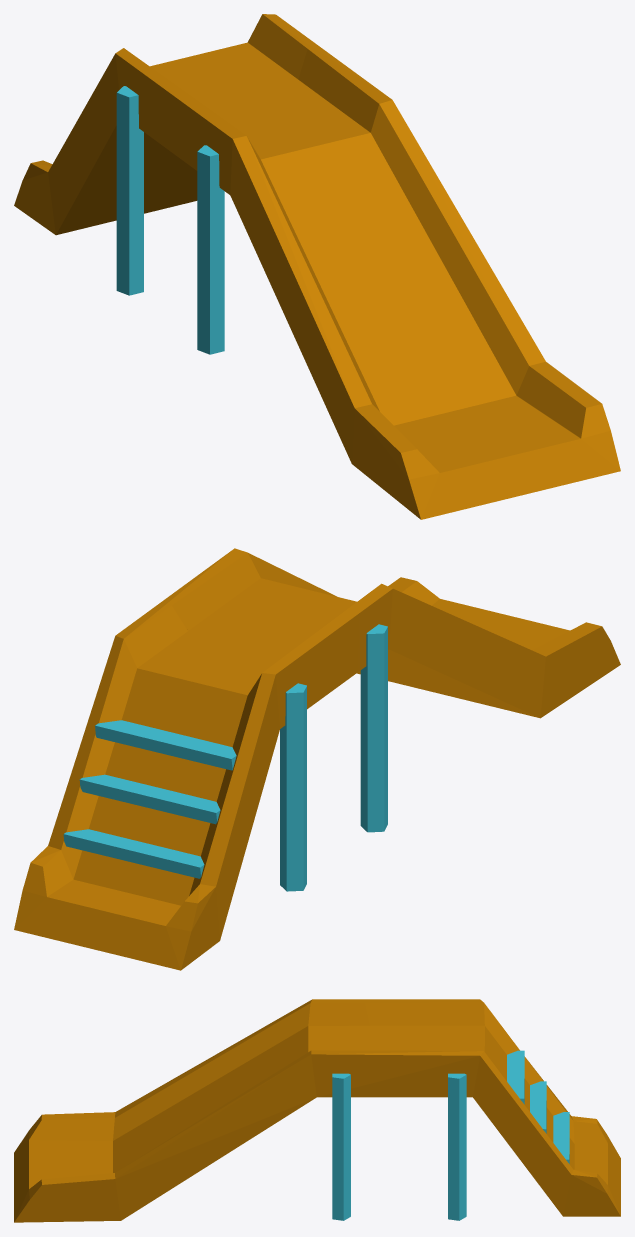
File: Child Slide 1 Fractured.fbx
3 renders of one model, top to bottom at view 1: azimuth 30°, elevation 25°; view 2: azimuth 150°, elevation 25°; view 3: azimuth 270°, elevation 25°, orthographic. The views are drawn at different scales.
Parts seen in each view (by area): view 1: Child_Slide_01_Breaking.001, Child_Slide_01_Breaking; view 2: Child_Slide_01_Breaking, Child_Slide_01_Breaking.001; view 3: Child_Slide_01_Breaking.001, Child_Slide_01_Breaking.
Boxes of the visible parts, <box> form: Child_Slide_01_Breaking.001: <box>197,44,620,519</box>; Child_Slide_01_Breaking: <box>14,14,315,295</box>; Child_Slide_01_Breaking: <box>14,605,359,970</box>; Child_Slide_01_Breaking.001: <box>157,548,620,832</box>; Child_Slide_01_Breaking.001: <box>14,999,421,1222</box>; Child_Slide_01_Breaking: <box>361,999,620,1220</box>.
Bounding box in the file's own units: 55.22 × 58.82 × 201.
